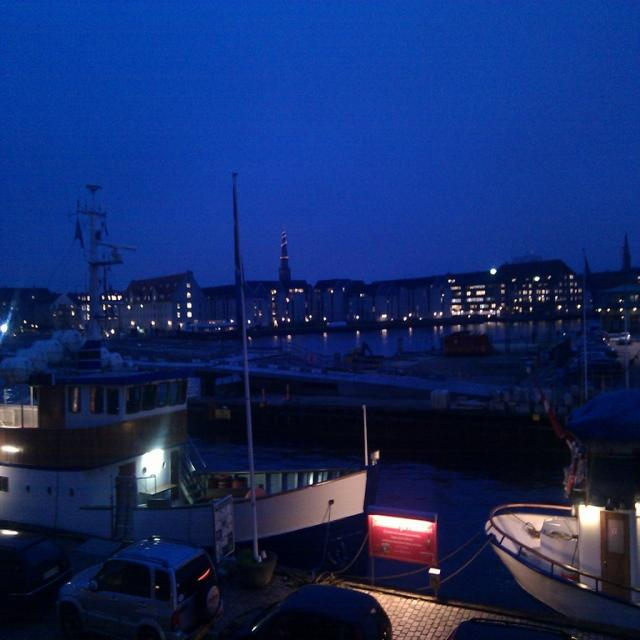Boat: (478, 430, 640, 638)
